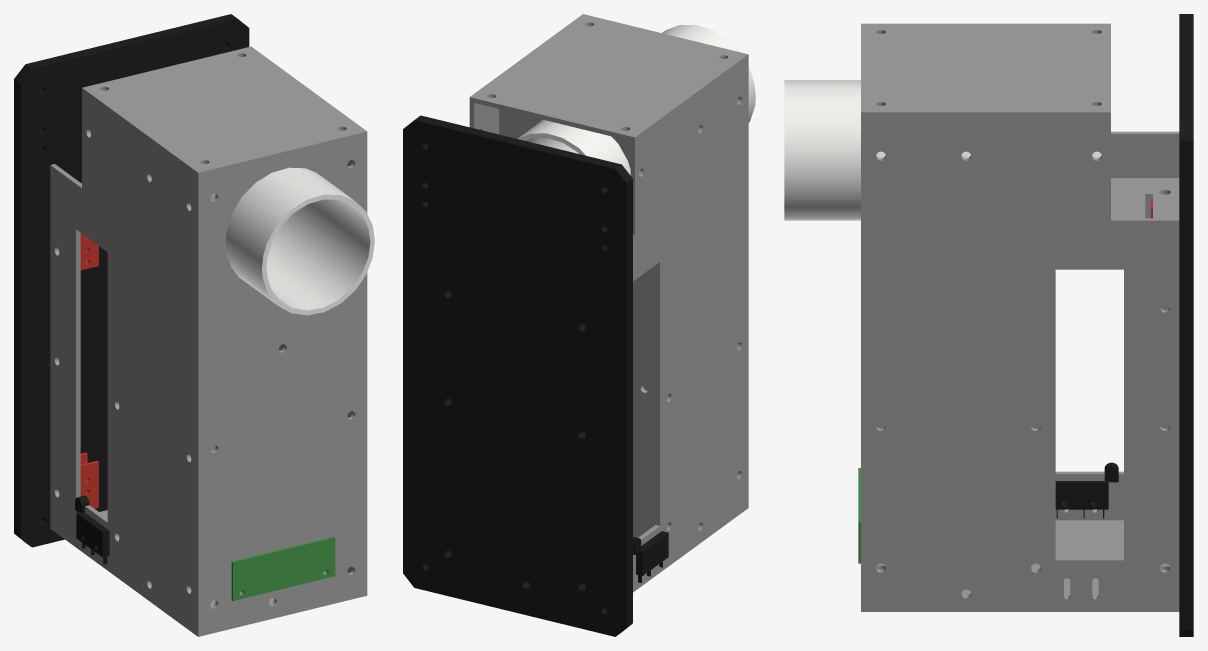
File: Robot_1_Body.gltf
3 views of the same model, side by side, from view 1: azimuth 30°, elevation 25°; view 2: azimuth 150°, elevation 25°; view 3: azimuth 270°, elevation 25° (orthographic). The views are drawn at different scales.
Visible parts, largest first — view 1: Robot_1_Body; view 2: Robot_1_Body; view 3: Robot_1_Body.
Part boxes in pixels (left/top/right/bottom): Robot_1_Body: left=14, top=14, right=374, bottom=636; Robot_1_Body: left=403, top=14, right=755, bottom=636; Robot_1_Body: left=784, top=14, right=1193, bottom=636.
Bounding box in the file's own units: 10 × 20 × 14.4.
